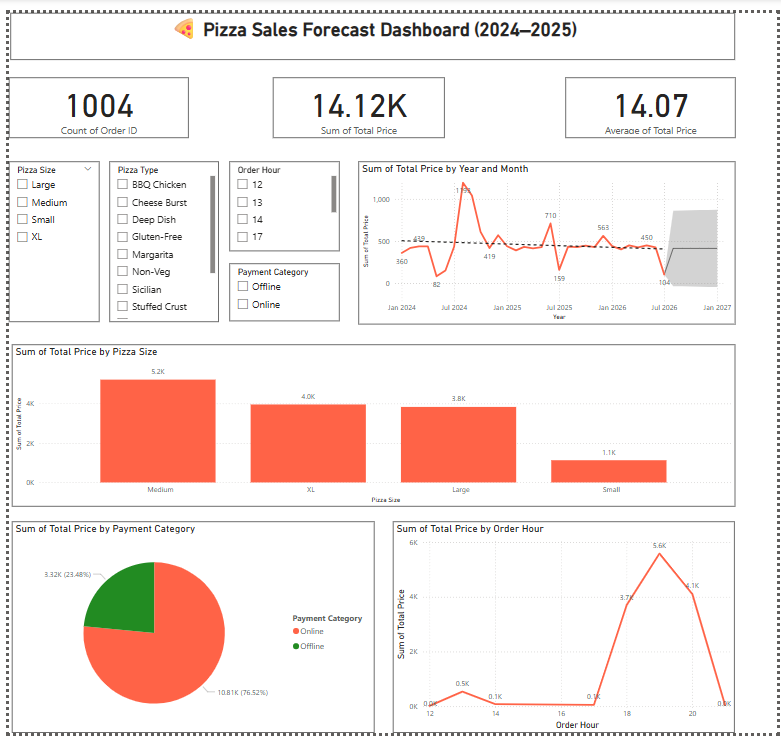

Layout of this report page (visuals, bound fields, positions):
{"tool":"powerbi","page":{"name":"Page 1","canvas":[1280,1200],"ordinal":0},"visuals":[{"type":"lineChart","fields":{"Y":["Sum(Sheet1.Total Price)"],"Category":["Sheet1.Order Time.Variation.Date Hierarchy.Year","Sheet1.Order Time.Variation.Date Hierarchy.Month"]},"box":[581.5,247,627.8,271],"z":0},{"type":"slicer","fields":{"Values":["Sheet1.Pizza Size"]},"box":[0,247,151,267.6],"z":1},{"type":"card","fields":{"Values":["Sum(Sheet1.Total Price)"]},"box":[439.1,107.5,285.9,100.6],"z":2},{"type":"columnChart","fields":{"Category":["Sheet1.Pizza Size"],"Y":["Sum(Sheet1.Total Price)"]},"box":[4.6,553.5,1205.4,269.9],"z":3},{"type":"lineChart","fields":{"Y":["Sum(Sheet1.Total Price)"],"Category":["Sheet1.Order Hour"]},"box":[640.4,848.6,569.5,352.2],"z":4},{"type":"pieChart","fields":{"Category":["Sheet1.Payment Category"],"Y":["Sum(Sheet1.Total Price)"]},"box":[4.6,848.6,603.8,352.2],"z":5},{"type":"textbox","title":"🍕 Pizza Sales Forecast Dashboard (2024–2025) ","box":[2.3,0,1207.6,77.8],"z":6},{"type":"card","fields":{"Values":["CountNonNull(Sheet1.Order ID)"]},"box":[0,107.5,299.6,100.6],"z":7},{"type":"card","fields":{"Values":["Avg(Sheet1.Total Price)"]},"box":[926.3,107.5,283.6,100.6],"z":8},{"type":"slicer","fields":{"Values":["Sheet1.Payment Category"]},"box":[367.1,418.6,183.5,96.1],"z":9},{"type":"slicer","fields":{"Values":["Sheet1.Pizza Type"]},"box":[166.4,247,181.8,267.6],"z":10},{"type":"slicer","fields":{"Values":["Sheet1.Order Hour"]},"box":[367.1,247,183.5,149.2],"z":11}]}

Visuals, with their boxes in screenshot pixels (x1, y1, x2, y2), scaled from the page's 1280x1200 canvas onto the 781x739 screenshot:
lineChart - Sum(Sheet1.Total Price) x Sheet1.Order Time.Variation.Date Hierarchy.Year: (x1=355, y1=152, x2=738, y2=319)
slicer - Sheet1.Pizza Size: (x1=0, y1=152, x2=92, y2=317)
card - Sum(Sheet1.Total Price): (x1=268, y1=66, x2=442, y2=128)
columnChart - Sheet1.Pizza Size x Sum(Sheet1.Total Price): (x1=3, y1=341, x2=738, y2=507)
lineChart - Sum(Sheet1.Total Price) x Sheet1.Order Hour: (x1=391, y1=523, x2=738, y2=738)
pieChart - Sheet1.Payment Category x Sum(Sheet1.Total Price): (x1=3, y1=523, x2=371, y2=738)
"🍕 Pizza Sales Forecast Dashboard (2024–2025) " textbox: (x1=1, y1=0, x2=738, y2=48)
card - CountNonNull(Sheet1.Order ID): (x1=0, y1=66, x2=183, y2=128)
card - Avg(Sheet1.Total Price): (x1=565, y1=66, x2=738, y2=128)
slicer - Sheet1.Payment Category: (x1=224, y1=258, x2=336, y2=317)
slicer - Sheet1.Pizza Type: (x1=102, y1=152, x2=212, y2=317)
slicer - Sheet1.Order Hour: (x1=224, y1=152, x2=336, y2=244)
